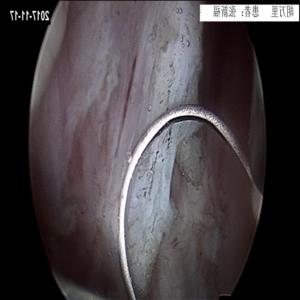film: (110, 47, 148, 168)
